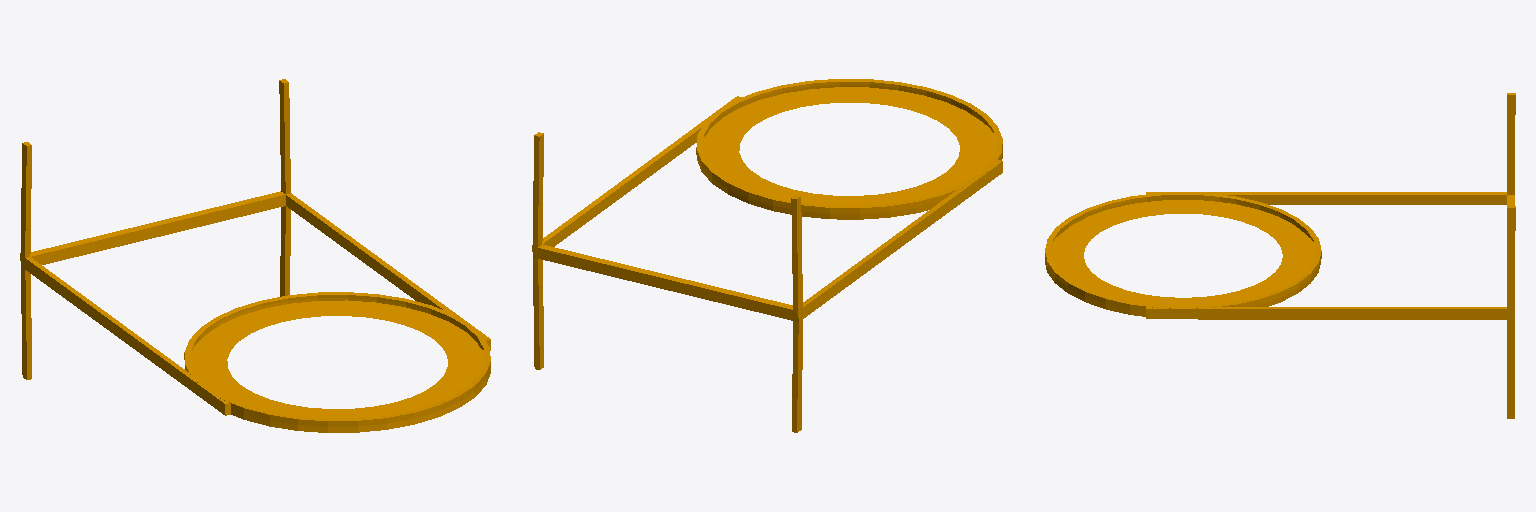
URDF robot description (circle2m):
<?xml version='1.0' encoding='UTF-8'?>
<robot name="circle2m">
  <link name="base_link">
    <visual name="base_link_visual">
      <geometry>
        <mesh filename="circleX2m.dae" scale="1. 1. 1."/>
      </geometry>
      <origin xyz="0 0 0" rpy="1.57 0 0"/>
    </visual>
    <collision name="base_link_collision">
      <geometry>
        <mesh filename="circleX2m.dae" scale="1. 1. 1."/>
      </geometry>
      <origin xyz="0 0 0" rpy="1.57 0 0"/>
    </collision>
  </link>
</robot>

--- Facts derived from the render (not from the file) ---
The picture shows the robot from 3 angles, left to right: view 1: azimuth 30°, elevation 25°; view 2: azimuth 150°, elevation 25°; view 3: azimuth 270°, elevation 25°; orthographic projection.
Robot: circle2m — 1 links, 0 joints (none); root link base_link; default pose: all joints at 0.
Links seen in each view (by area): view 1: base_link; view 2: base_link; view 3: base_link.
Boxes of the visible links, x1,y1,x2,y2 form: base_link: [20, 79, 490, 432]; base_link: [532, 79, 1002, 432]; base_link: [1045, 93, 1515, 418].
Size in the robot's own frame: 1.19 by 2.03 by 1 metres.
Meshes: 1 distinct files referenced, 1 mesh visuals loaded (1 Collada DAE).